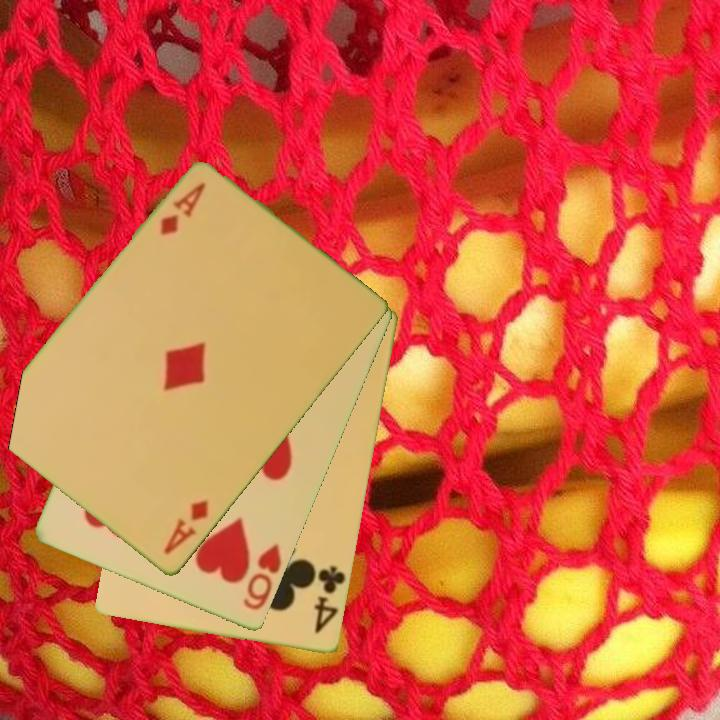4c: (310, 563, 348, 637)
6h: (240, 540, 285, 614)
Ad: (160, 497, 212, 559), (156, 179, 209, 239)
